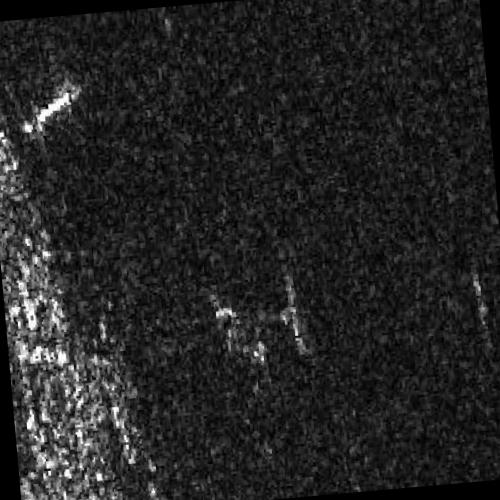ship: (20, 82, 82, 136)
